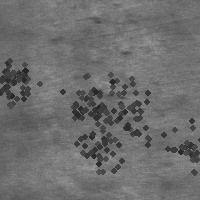rolled-in_scale: (68, 58, 168, 158), (61, 105, 139, 183), (54, 65, 128, 139), (149, 110, 200, 188), (85, 37, 137, 103), (0, 46, 42, 108)
